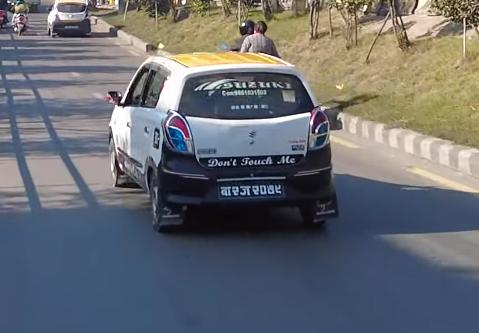scooter: (12, 7, 30, 36)
taxi: (104, 49, 342, 235), (45, 0, 97, 39)
